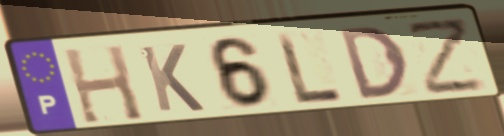6: (205, 34, 275, 112)
D: (335, 24, 412, 103)
H: (60, 42, 148, 126)
K: (135, 42, 208, 114)
L: (272, 30, 346, 107)
Z: (403, 15, 489, 98)
